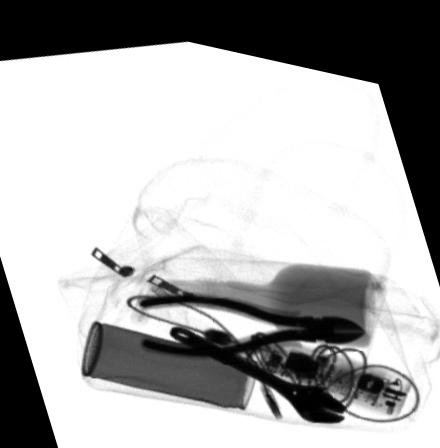Pliers: (135, 284, 366, 351)
Wrench: (167, 317, 349, 411)
